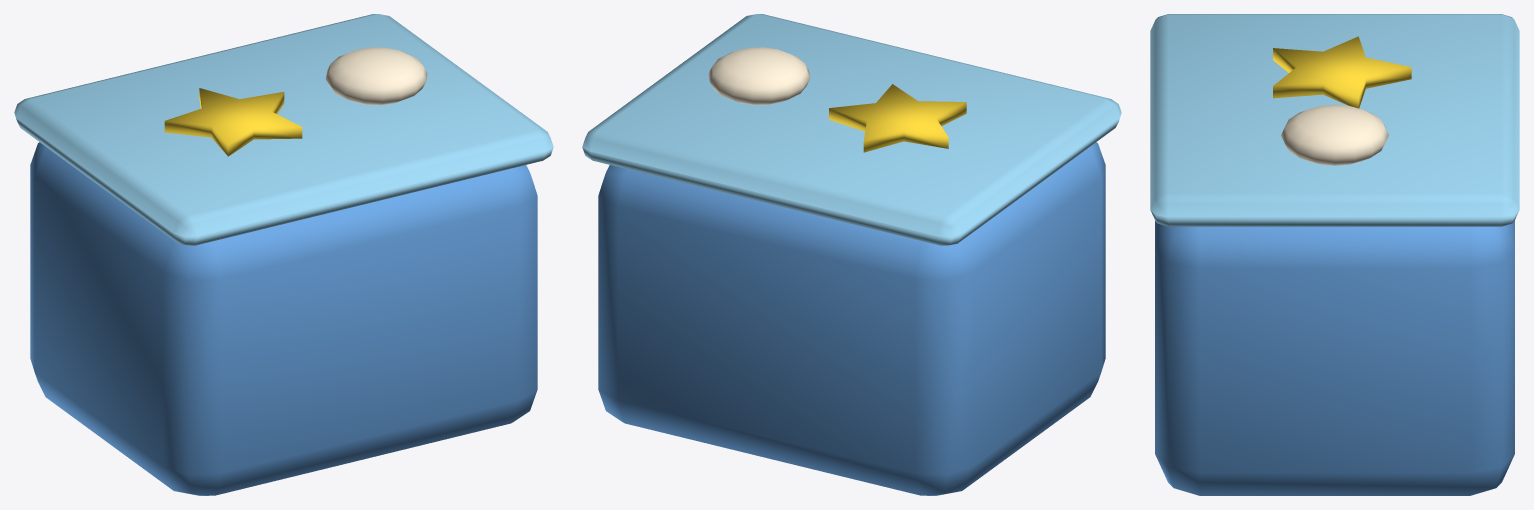
File: wall_block.glb
The picture shows the model from 3 angles, left to right: view 1: azimuth 30°, elevation 25°; view 2: azimuth 150°, elevation 25°; view 3: azimuth 270°, elevation 25°; orthographic projection. The views are drawn at different scales.
Parts seen in each view (by area): view 1: wall_block; view 2: wall_block; view 3: wall_block.
Part boxes in pixels (left/top/right/bottom): wall_block: left=14, top=14, right=553, bottom=495; wall_block: left=582, top=14, right=1121, bottom=495; wall_block: left=1150, top=14, right=1519, bottom=495.
Size of the model in its own units: 0.9488 by 0.8 by 0.7628.
